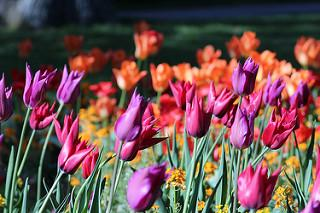tulip: (238, 160, 281, 209), (115, 87, 149, 140), (263, 104, 297, 151), (23, 61, 56, 107), (184, 90, 213, 138), (231, 56, 260, 96), (231, 106, 257, 148), (57, 64, 83, 102), (0, 73, 15, 121)
